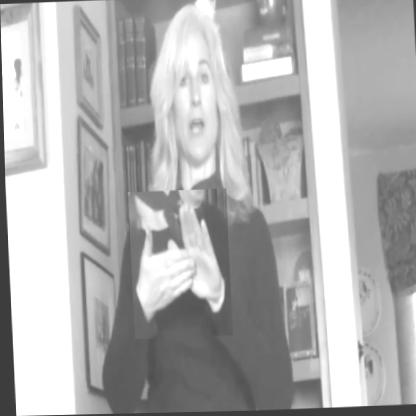NiceToMeetYou: (126, 189, 230, 339)
